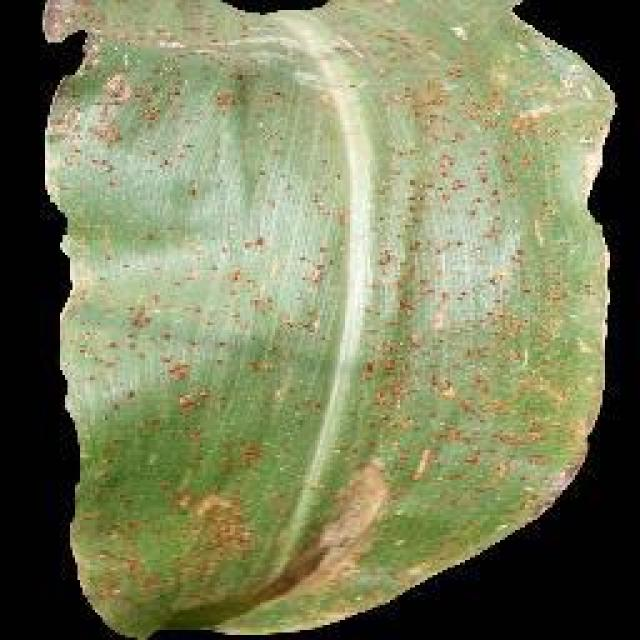Corn Common Rust: (118, 86, 535, 622)
